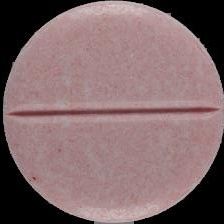76237-127: (0, 0, 224, 224)
